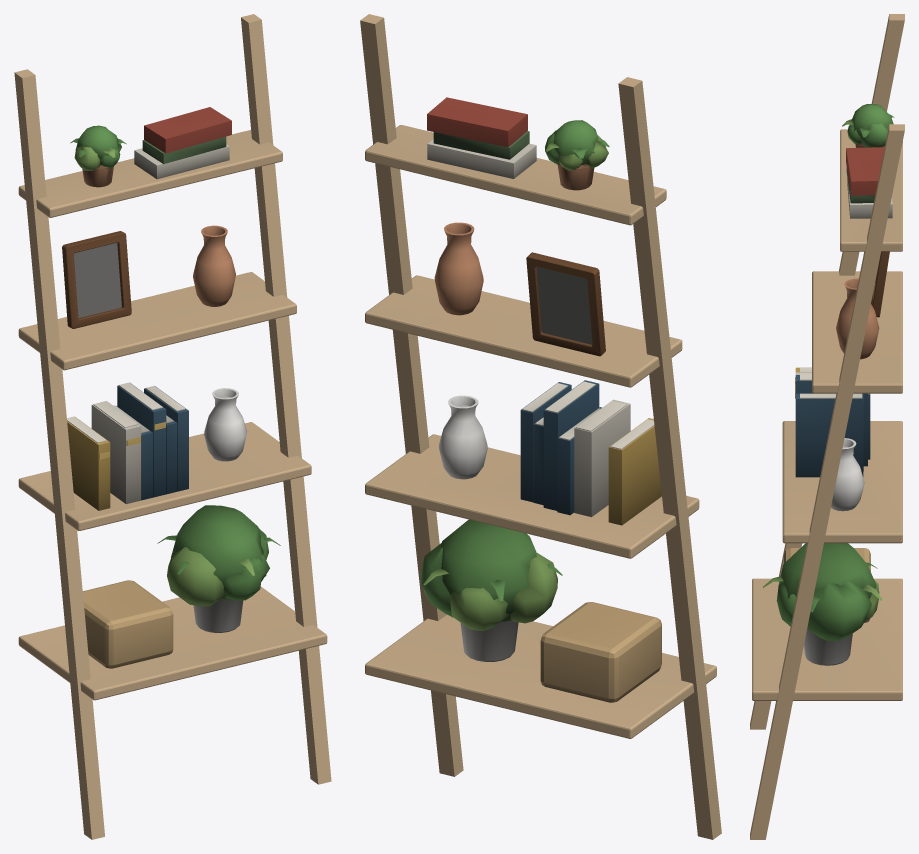
The model's file is ladderShelf.glb.
3 renders of one model, left to right at view 1: azimuth 30°, elevation 25°; view 2: azimuth 150°, elevation 25°; view 3: azimuth 270°, elevation 25°, orthographic. The views are drawn at different scales.
Visible parts, largest first — view 1: ladderShelf; view 2: ladderShelf; view 3: ladderShelf.
Part boxes in pixels (x1=…): ladderShelf: x1=14, y1=14, x2=331, y2=839; ladderShelf: x1=360, y1=14, x2=721, y2=839; ladderShelf: x1=750, y1=14, x2=904, y2=839.
Bounding box in the file's own units: 0.635 × 1.8 × 0.356.
